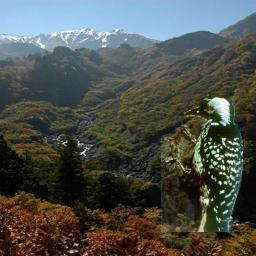Woodpecker: (161, 93, 243, 232)
